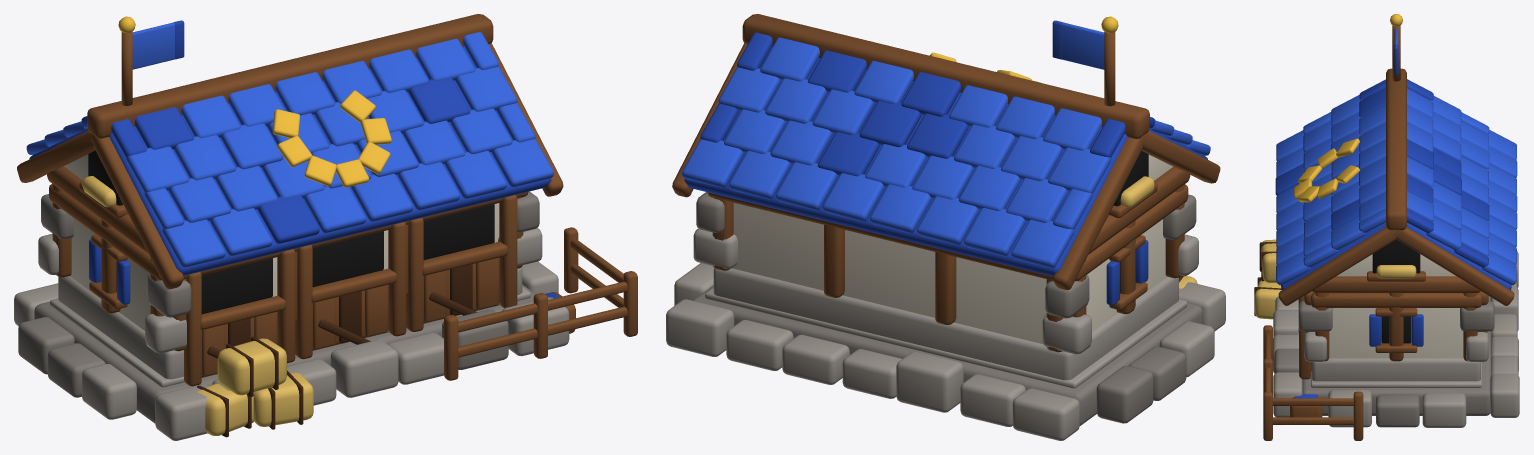
Rendered from Stables.glb.
3 views of the same model, side by side, from view 1: azimuth 30°, elevation 25°; view 2: azimuth 150°, elevation 25°; view 3: azimuth 270°, elevation 25° (orthographic). The views are drawn at different scales.
Parts seen in each view (by area): view 1: Stables; view 2: Stables; view 3: Stables.
Boxes of the visible parts, x1,y1,x2,y2 form: Stables: (14, 14, 637, 440); Stables: (666, 14, 1225, 440); Stables: (1254, 14, 1519, 440).
Size of the model in its own units: 4.5 by 3.15 by 2.79.
